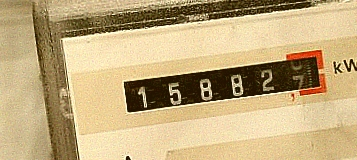1: (134, 82, 149, 110)
2: (257, 66, 276, 93)
5: (165, 79, 182, 107)
7: (289, 71, 306, 90)
8: (196, 75, 215, 102), (227, 71, 245, 98)
screen: (111, 43, 336, 127)
